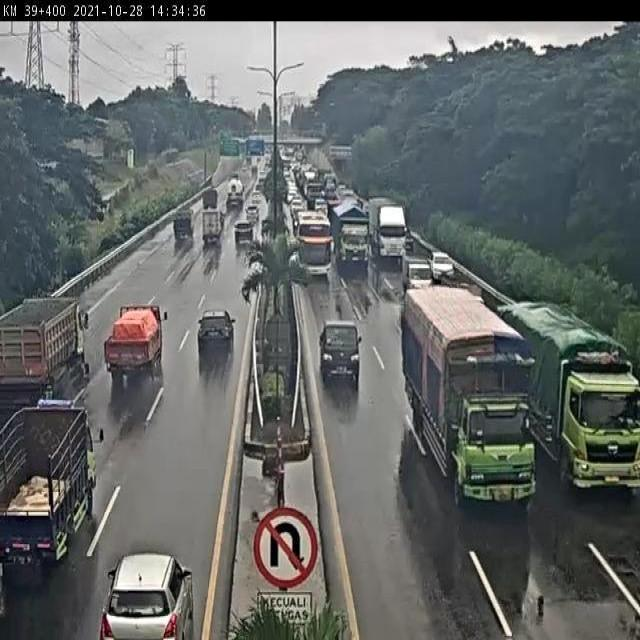big bus: (294, 209, 334, 279)
big truck: (397, 282, 533, 489), (493, 295, 638, 485), (0, 293, 95, 403), (367, 188, 411, 259), (331, 199, 372, 268)
car: (316, 320, 363, 384), (196, 312, 236, 356), (424, 244, 452, 281), (233, 220, 254, 248), (244, 201, 261, 224)
small truck: (0, 407, 106, 569), (104, 300, 172, 384), (201, 210, 227, 246), (171, 206, 196, 242), (199, 185, 220, 215)
